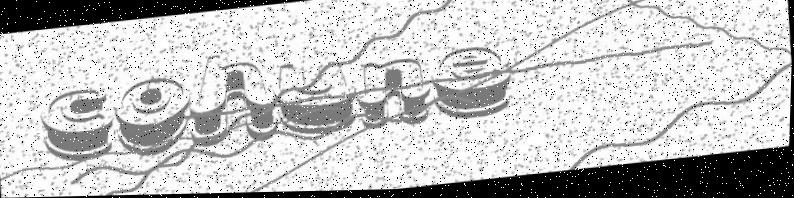c: (37, 85, 118, 166)
e: (429, 45, 516, 126)
h: (185, 49, 282, 150)
n: (354, 55, 436, 134)
o: (112, 74, 197, 160)
u: (275, 57, 361, 140)
